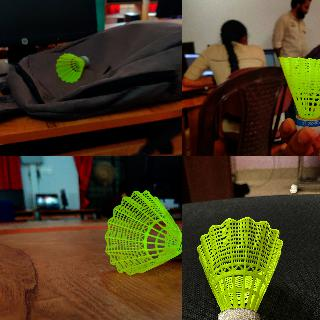shuttlecock: (196, 216, 283, 319), (104, 187, 181, 276), (278, 56, 319, 136), (55, 52, 89, 84)
